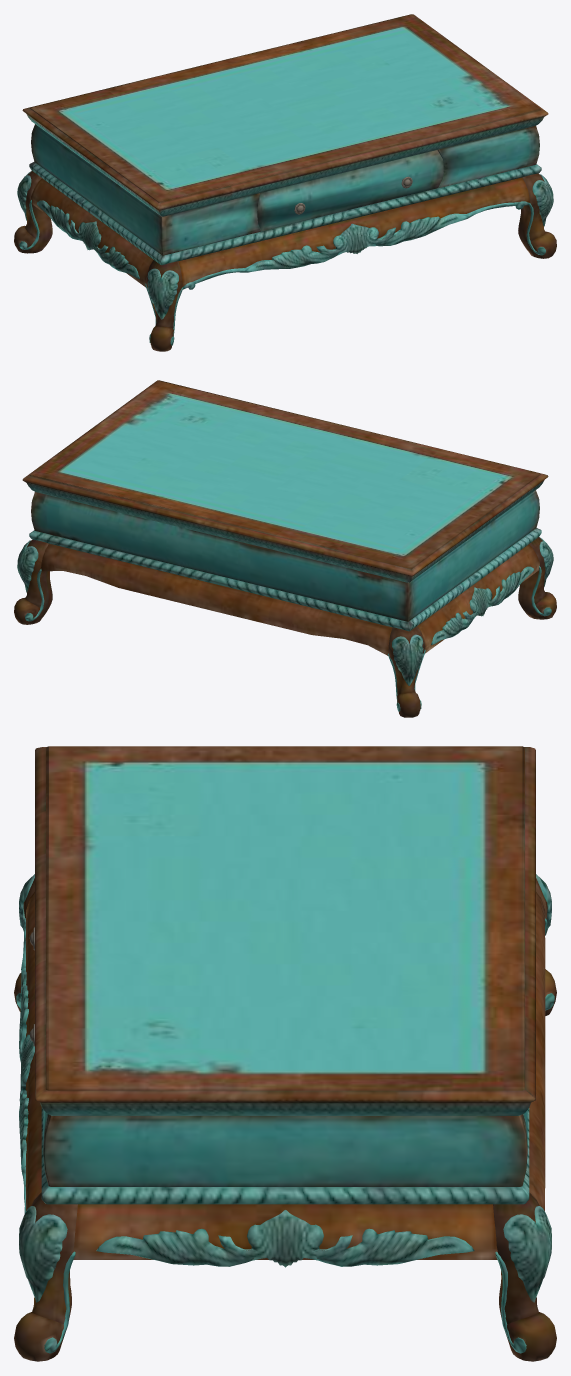
File: coffeetable_01.glb
3 renders of one model, top to bottom at view 1: azimuth 30°, elevation 25°; view 2: azimuth 150°, elevation 25°; view 3: azimuth 270°, elevation 25°, orthographic. The views are drawn at different scales.
Visible parts, largest first — view 1: CoffeeTable_01; view 2: CoffeeTable_01; view 3: CoffeeTable_01.
Part boxes in pixels (x1,y1,x2,y2): CoffeeTable_01: (14, 14, 556, 351); CoffeeTable_01: (14, 380, 556, 717); CoffeeTable_01: (14, 746, 556, 1361).
Bounding box in the file's own units: 1.54 × 0.5232 × 0.9736.
Materials: 1 (1 with a texture image).
